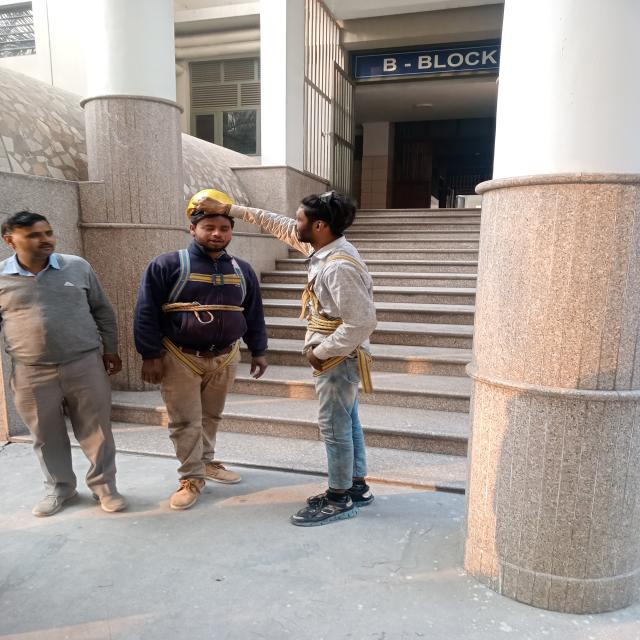no jacket: (132, 189, 271, 517)
unsafe: (0, 204, 140, 518), (284, 191, 382, 526)
